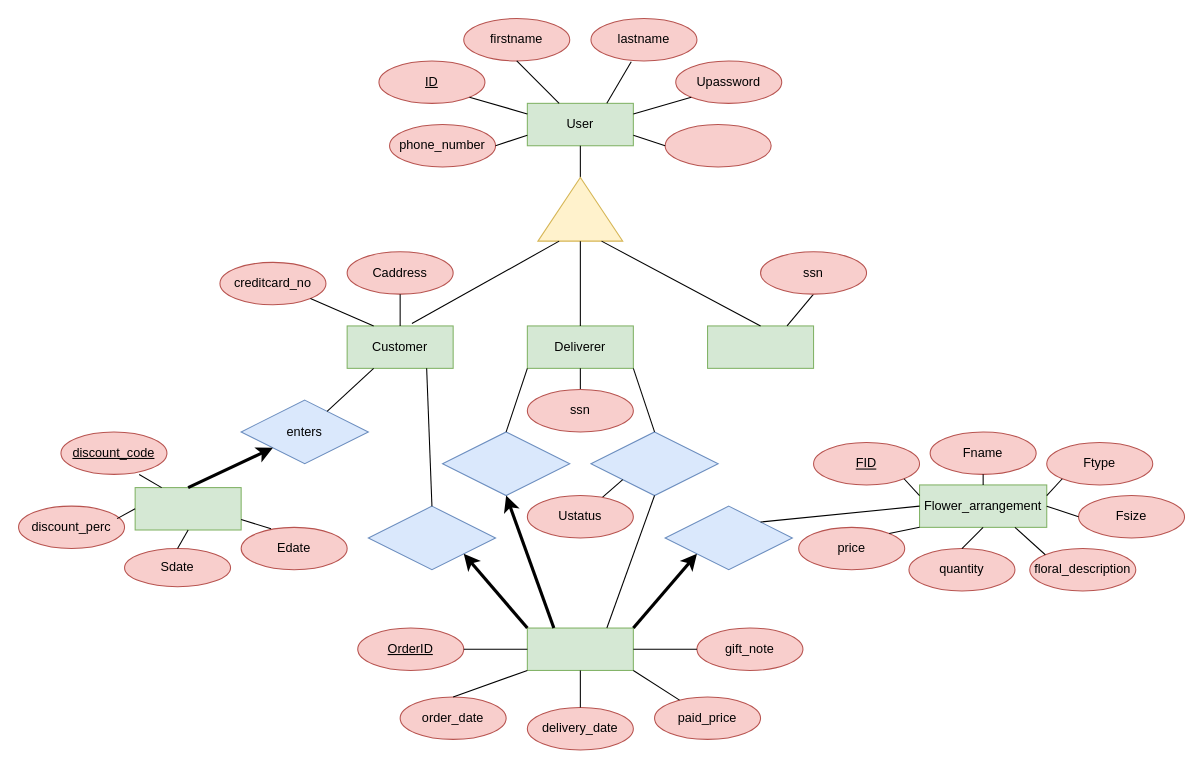
This 1203x768 diagram has some shape labels left out. The centre of each missing label's shape, as x and y in pixels:
Admin: the point at 760,346
contains: the point at 728,537
delivers: the point at 505,463
Discount: the point at 187,508
email: the point at 717,145
IS_A: the point at 580,208
Orders: the point at 579,648
places: the point at 431,537
updates: the point at 654,463
